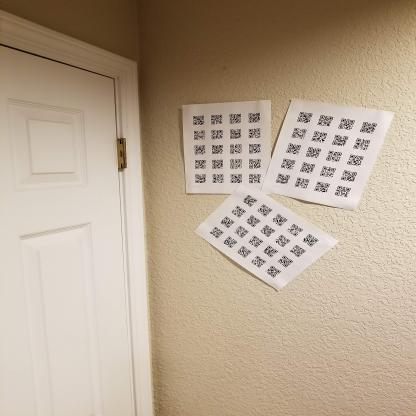qr: (300, 231, 323, 248), (290, 122, 310, 140), (348, 133, 370, 149), (358, 120, 381, 135), (337, 114, 357, 131), (272, 231, 291, 248), (290, 175, 310, 191), (332, 133, 351, 149), (269, 212, 290, 226), (310, 127, 328, 143), (289, 244, 307, 260), (300, 158, 319, 173), (276, 252, 295, 267), (221, 232, 237, 249), (304, 146, 323, 160), (255, 202, 274, 216), (243, 213, 262, 227), (283, 142, 303, 155), (348, 153, 365, 168), (217, 214, 235, 228), (247, 233, 265, 247), (294, 109, 313, 122), (191, 112, 206, 128), (242, 193, 258, 208), (230, 203, 245, 219), (235, 245, 251, 260), (288, 221, 302, 238), (325, 149, 343, 162), (321, 165, 337, 179), (316, 112, 333, 125), (264, 264, 281, 277), (246, 158, 264, 170), (191, 126, 206, 140), (228, 142, 243, 156), (264, 244, 279, 258), (229, 110, 242, 126), (228, 158, 244, 171), (208, 110, 222, 124), (230, 125, 244, 139), (334, 182, 348, 196), (249, 109, 262, 124), (315, 181, 330, 194), (210, 224, 223, 239), (260, 223, 276, 235), (209, 171, 223, 184), (276, 172, 291, 184), (281, 156, 297, 167), (194, 157, 207, 170), (249, 173, 262, 186), (248, 142, 262, 154), (235, 226, 249, 238), (253, 254, 265, 268), (209, 127, 223, 138), (211, 158, 223, 170), (231, 172, 243, 184), (211, 145, 225, 154), (194, 173, 206, 183), (193, 144, 206, 153), (250, 128, 260, 138)
